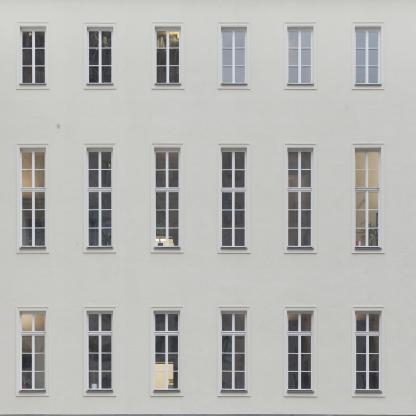Building Outline: (0, 0, 416, 416)
Facade: (0, 0, 416, 415)
Floor: (1, 142, 416, 296), (1, 0, 416, 132), (1, 305, 416, 406)
Floor Slab: (1, 132, 416, 142), (1, 406, 416, 415), (1, 296, 416, 305)
Window: (154, 147, 181, 246), (287, 147, 314, 246), (355, 147, 382, 246), (20, 147, 46, 246), (87, 147, 113, 246), (221, 147, 247, 246), (19, 311, 46, 390), (355, 311, 382, 390), (287, 311, 314, 390), (153, 311, 180, 390), (221, 311, 247, 390), (87, 311, 113, 390), (86, 27, 113, 84), (287, 27, 314, 84), (355, 27, 381, 84), (20, 27, 46, 84), (155, 27, 181, 84), (221, 27, 247, 84)
